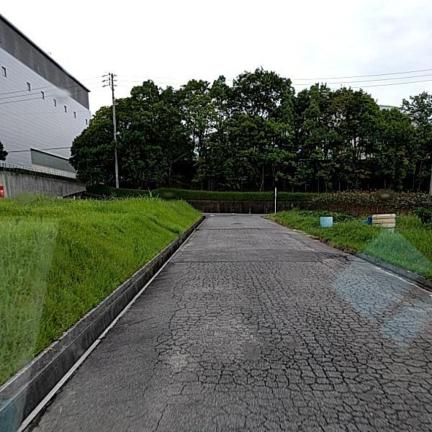Road: (34, 215, 431, 431)
